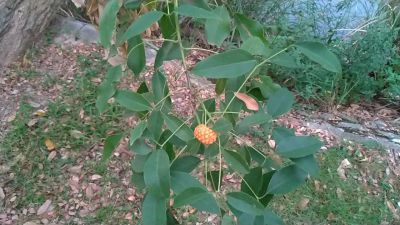eggs: (193, 122, 218, 148)
